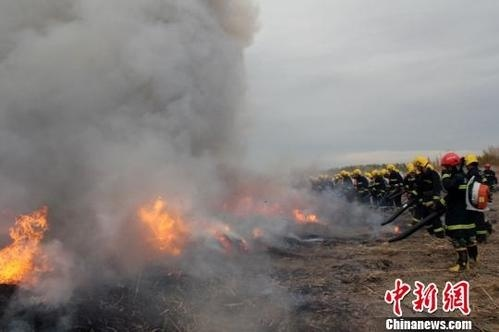fire: (132, 191, 304, 258), (0, 204, 53, 290)
